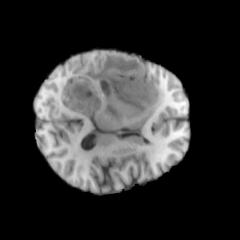glioma: (58, 52, 164, 123)
